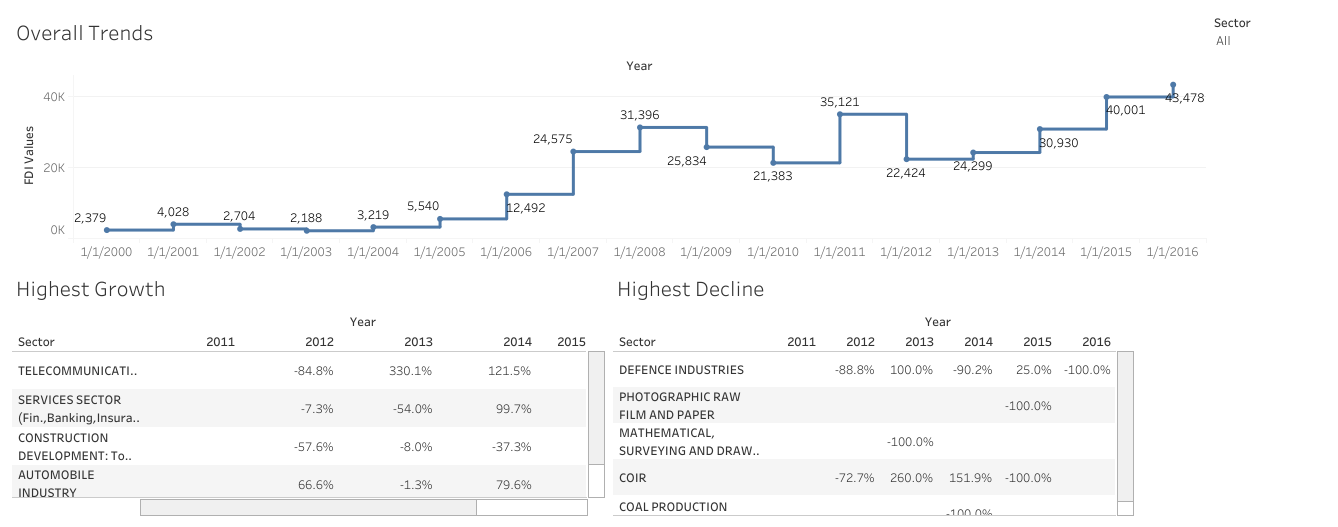

This screenshot's page, from the dashboard's own definition file:
{"tool":"tableau","page":{"name":"Dashboard 2","canvas":[1000,1000],"units":"permille","ordinal":1},"visuals":[{"type":"worksheet","title":"Overall Trends","mark":"Automatic","rows":["Pivot Field Values"],"cols":["Pivot Field Names"],"box":[6.9,13.5,881.4,486.5]},{"type":"filter","title":"Overall Trends","param":"[federated.1e9zxy11swjx8n13gse5x0k94y7n].[none:Sector:nk]","box":[888.3,13.5,104.8,87.8]},{"type":"worksheet","title":"Highest Growth","mark":"Automatic","rows":["Sector"],"cols":["Pivot Field Names"],"box":[6.9,500,440.7,486.5]},{"type":"worksheet","title":"Highest Decline","mark":"Automatic","rows":["Sector"],"cols":["Pivot Field Names"],"box":[447.6,500,440.7,486.5]}]}

Visuals, with their boxes on the dashboard's canvas, which has no fixed pixel size, in thousandths of its width and height (x1, y1, x2, y2). These are canvas units, not pixel positions in the 1338x527 screenshot, which may show the page scaled, cropped or inside an application window:
"Overall Trends" worksheet: pyautogui.locateOnScreen(7, 14, 888, 500)
"Overall Trends" filter: pyautogui.locateOnScreen(888, 14, 993, 101)
"Highest Growth" worksheet: pyautogui.locateOnScreen(7, 500, 448, 986)
"Highest Decline" worksheet: pyautogui.locateOnScreen(448, 500, 888, 986)
